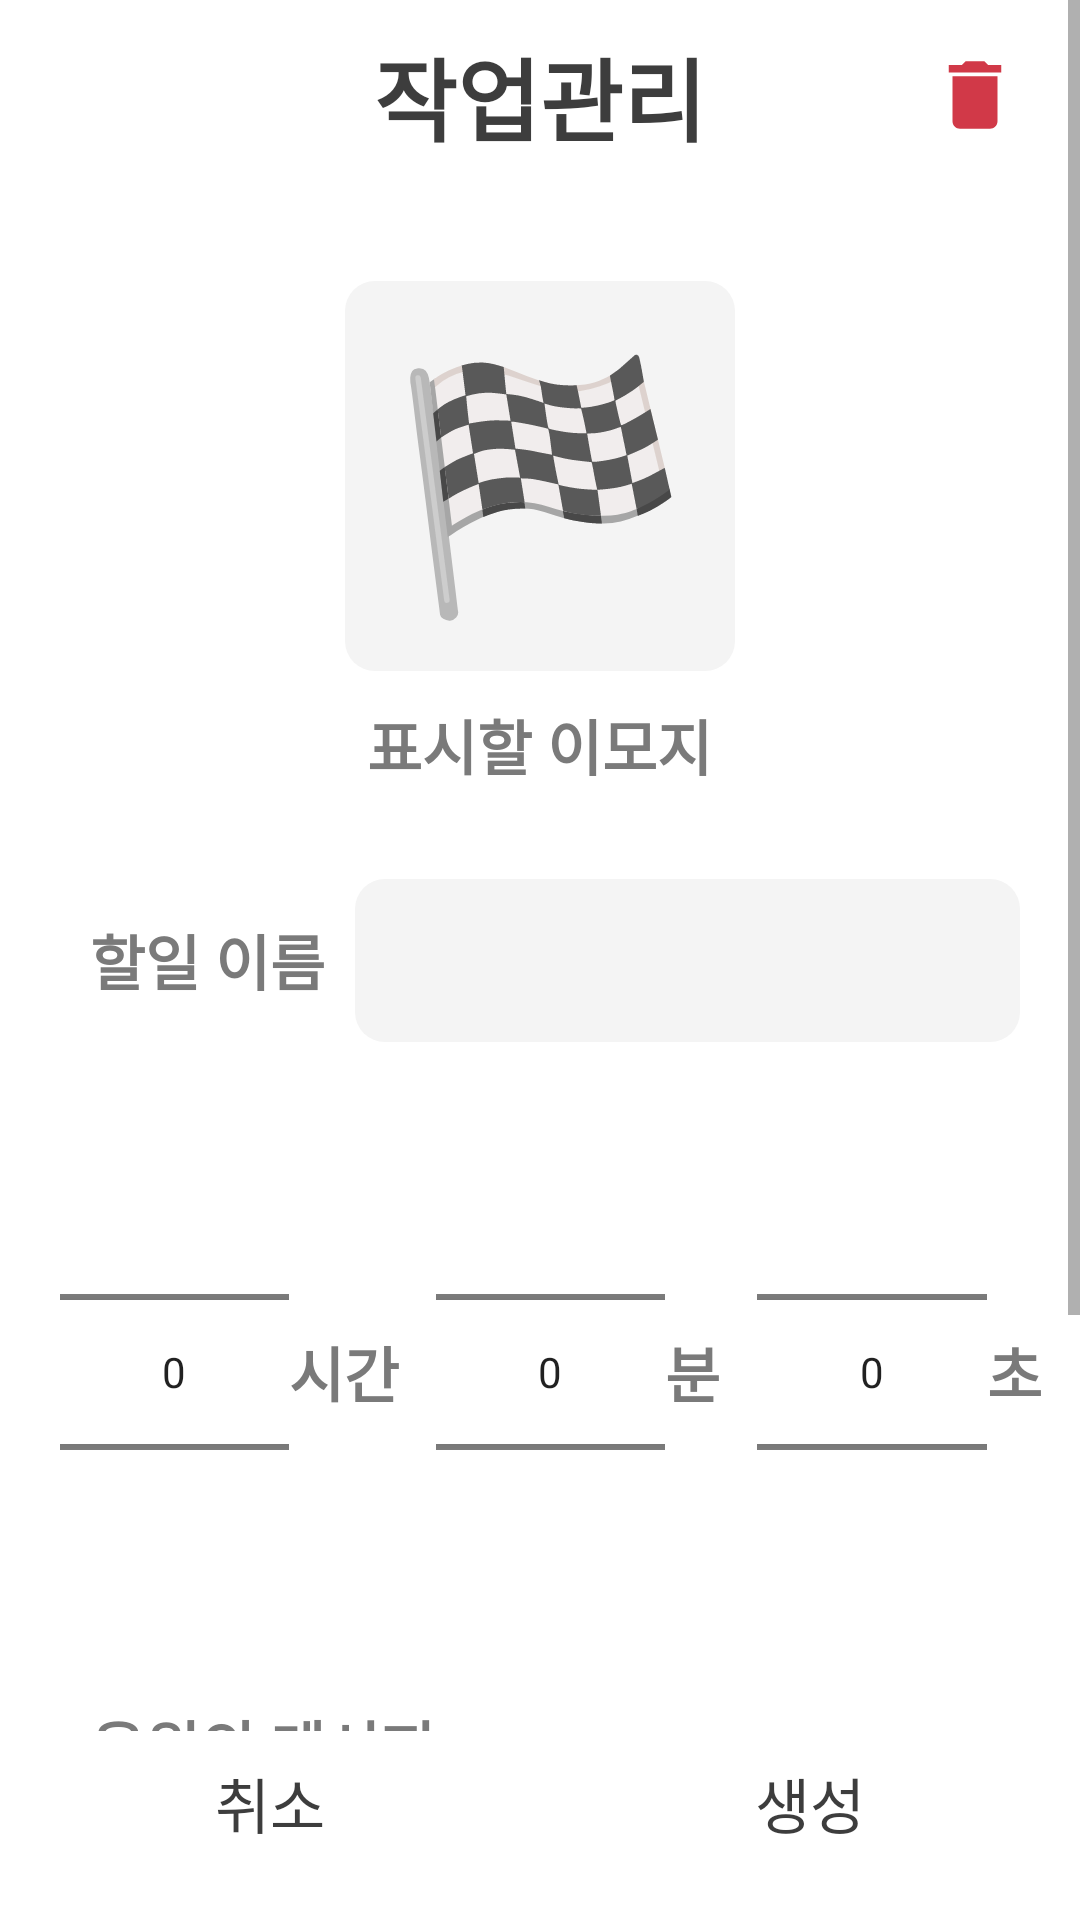

Locate icon controls on the screen. Image size 1080w x 1920h, boxes as [x1=x1, y1=y1, x2=x2, y2=y2].
delete: [x1=948, y1=61, x2=1002, y2=129]
